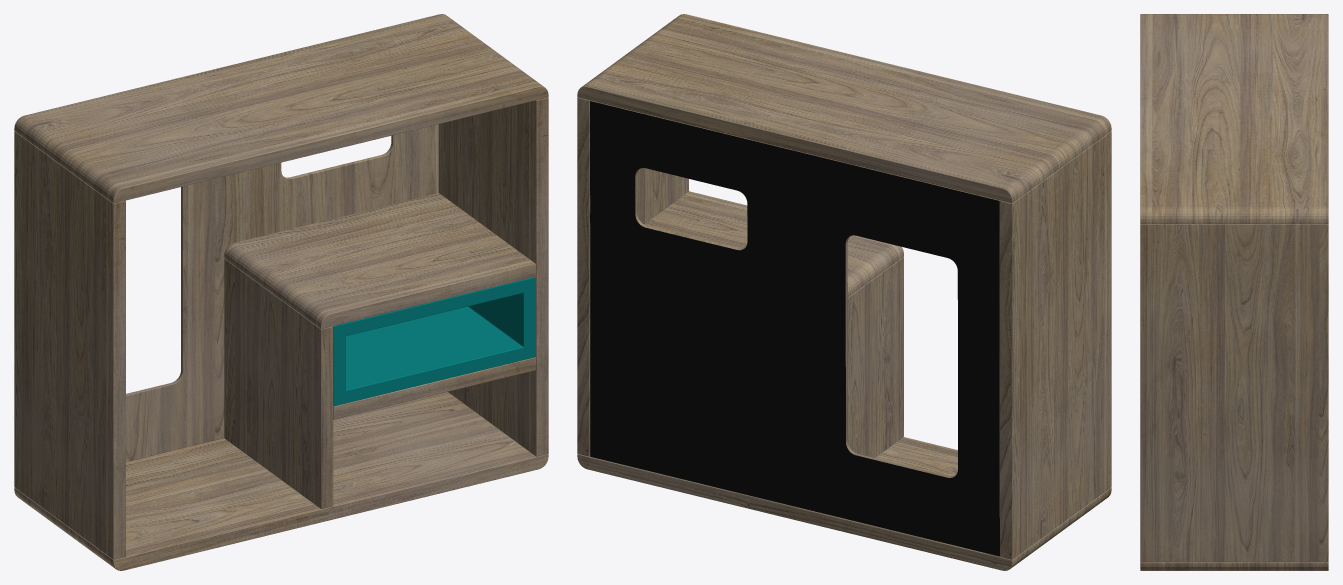
File: microfridge.glb
3 views of the same model, side by side, from view 1: azimuth 30°, elevation 25°; view 2: azimuth 150°, elevation 25°; view 3: azimuth 270°, elevation 25° (orthographic). The views are drawn at different scales.
Visible parts, largest first — view 1: wood, color; view 2: wood, black; view 3: wood.
Boxes of the visible parts, x1,y1,x2,y2 form: wood: (14,14,548,570); color: (333,277,535,406); wood: (577,14,1111,570); black: (590,101,999,556); wood: (1140,14,1328,570).
Bounding box in the file's own units: 1.32 × 1.11 × 0.52.
Materials: 3 (1 with a texture image).
